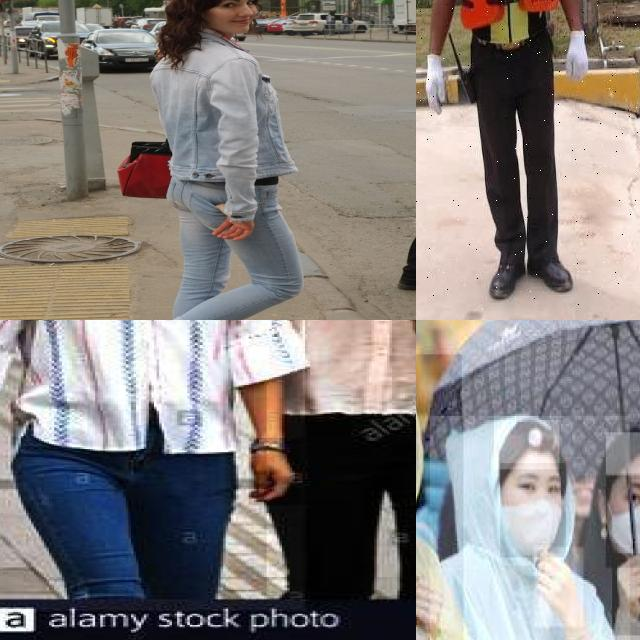No_Glasses: (507, 465, 565, 503), (614, 472, 640, 512)
boots: (480, 255, 528, 303), (529, 252, 575, 298)
face_mask: (500, 463, 566, 558), (605, 473, 640, 567)
hand_noglove: (249, 438, 310, 507), (534, 547, 583, 627), (612, 553, 640, 635), (416, 567, 453, 629)
head_nohelmet: (494, 420, 561, 471), (606, 432, 640, 477)
person: (0, 320, 307, 612), (416, 0, 640, 310), (430, 416, 630, 640), (266, 320, 416, 597)
vest: (452, 0, 565, 52)
